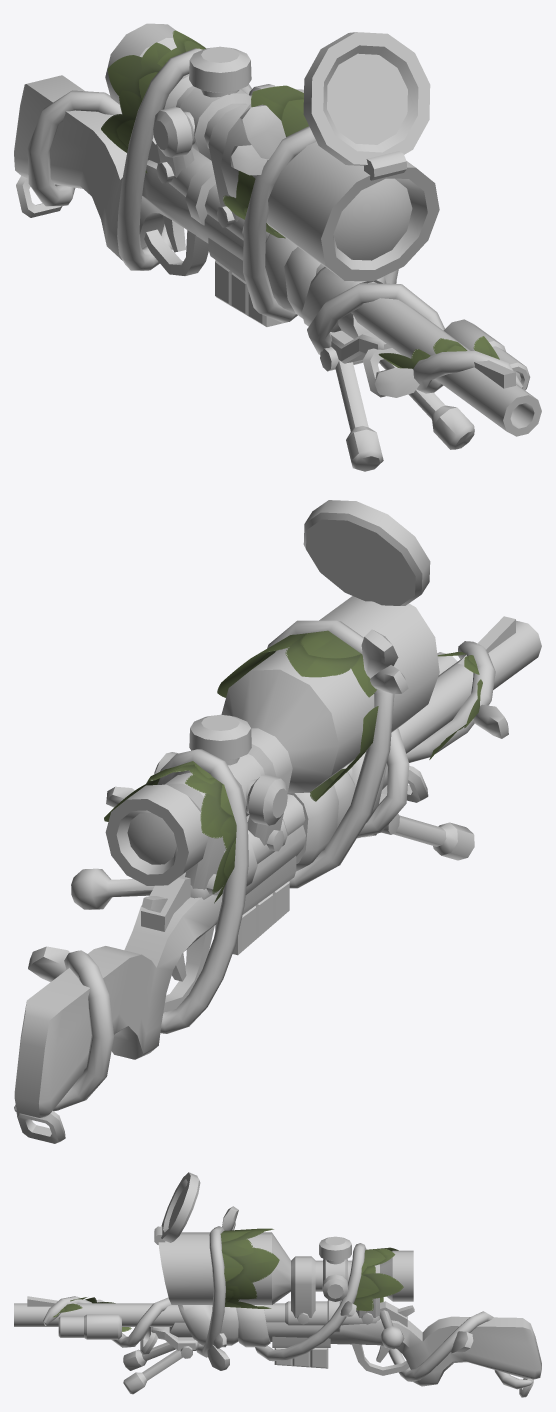
Rendered from Marksman_Rifle.fbx.
3 views of the same model, one above another, from view 1: azimuth 30°, elevation 25°; view 2: azimuth 150°, elevation 25°; view 3: azimuth 270°, elevation 25° (orthographic). The views are drawn at different scales.
Visible parts, largest first — view 1: Marksman_Rifle, Marksman_Rifle_Ghilliewrap; view 2: Marksman_Rifle, Marksman_Rifle_Ghilliewrap; view 3: Marksman_Rifle, Marksman_Rifle_Ghilliewrap.
Boxes of the visible parts, box(x1,y1,x2,y2) form: Marksman_Rifle: box(14, 23, 541, 471); Marksman_Rifle_Ghilliewrap: box(27, 30, 522, 397); Marksman_Rifle: box(14, 500, 541, 1143); Marksman_Rifle_Ghilliewrap: box(14, 620, 508, 1112); Marksman_Rifle: box(14, 1172, 541, 1397); Marksman_Rifle_Ghilliewrap: box(43, 1206, 532, 1389).
Bounding box in the file's own units: 49.49 × 104 × 227.
